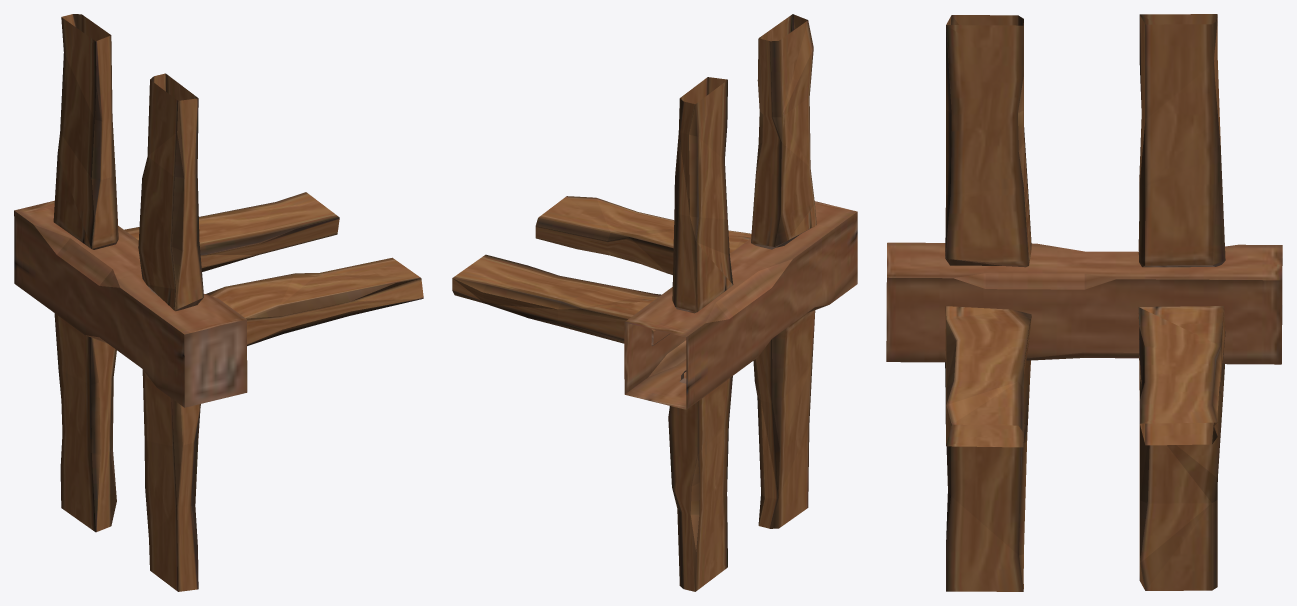
The model's file is fence.glb.
The picture shows the model from 3 angles, left to right: view 1: azimuth 30°, elevation 25°; view 2: azimuth 150°, elevation 25°; view 3: azimuth 270°, elevation 25°; orthographic projection. The views are drawn at different scales.
Parts seen in each view (by area): view 1: pillar, right_board_1, right_board_2, left_board_2, left_board_1, mid_board_1, mid_board_2; view 2: pillar, right_board_1, right_board_2, left_board_2, left_board_1, mid_board_2, mid_board_1; view 3: pillar, right_board_2, right_board_1, left_board_2, left_board_1, mid_board_2, mid_board_1.
Boxes of the visible parts, x1,y1,x2,y2 form: pillar: (14, 200, 247, 407); right_board_1: (138, 73, 203, 311); right_board_2: (53, 14, 118, 249); left_board_2: (54, 313, 116, 532); left_board_1: (142, 370, 200, 591); mid_board_1: (205, 257, 423, 345); mid_board_2: (124, 192, 339, 271); pillar: (624, 201, 857, 409); right_board_1: (751, 14, 816, 249); right_board_2: (672, 77, 733, 313); left_board_2: (668, 370, 732, 591); left_board_1: (753, 310, 815, 528); mid_board_2: (452, 254, 669, 345); mid_board_1: (535, 196, 751, 274); pillar: (886, 242, 1282, 364); right_board_2: (1138, 14, 1225, 267); right_board_1: (945, 15, 1031, 267); left_board_2: (1139, 358, 1224, 590); left_board_1: (945, 360, 1030, 591); mid_board_2: (1138, 306, 1225, 445); mid_board_1: (945, 306, 1031, 447).
Bounding box in the file's own units: 1.13 × 2 × 1.27.
1 material, 1 textured.
